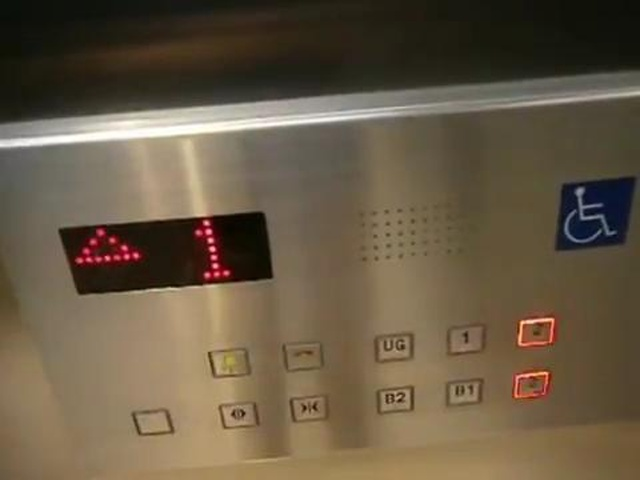1: (446, 324, 487, 356)
B1: (446, 376, 486, 408)
B2: (375, 385, 416, 417)
CH: (552, 171, 638, 252)
UG: (373, 332, 415, 363)
alarm: (207, 345, 252, 381)
blur: (516, 316, 557, 348), (131, 408, 176, 437), (514, 369, 550, 401)
call: (281, 341, 325, 373)
close: (288, 394, 332, 426)
led: (51, 207, 281, 296)
open: (217, 400, 260, 429)
